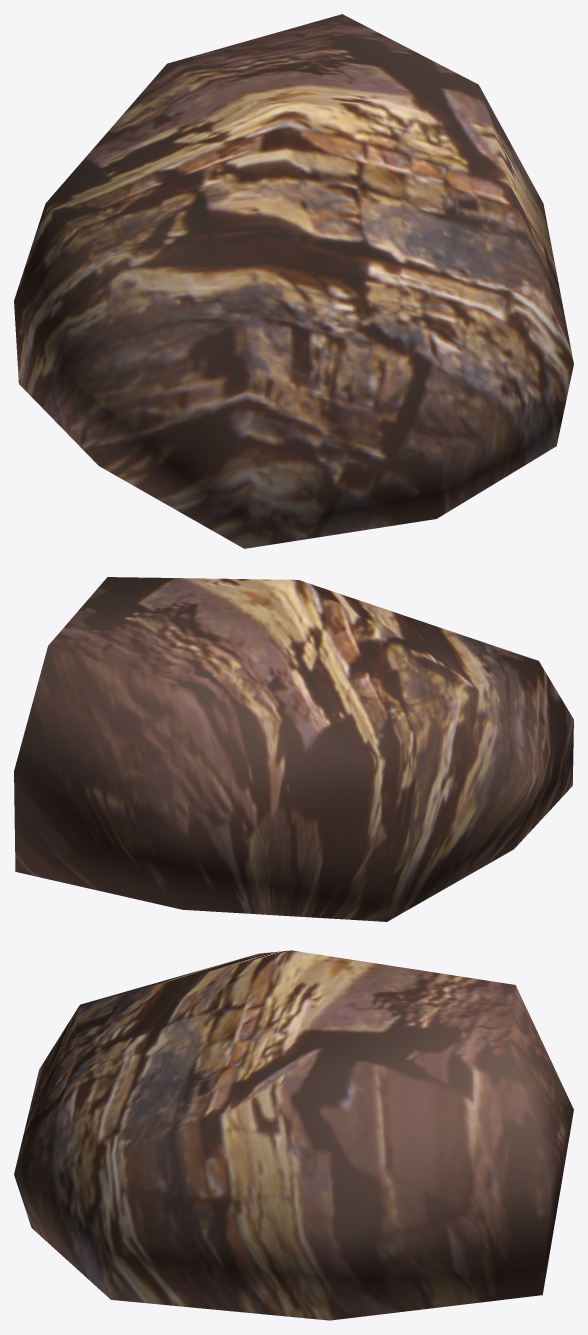
File: small_roche_2.fbx
3 renders of one model, top to bottom at view 1: azimuth 30°, elevation 25°; view 2: azimuth 150°, elevation 25°; view 3: azimuth 270°, elevation 25°, orthographic. The views are drawn at different scales.
Visible parts, largest first — view 1: cube; view 2: cube; view 3: cube.
Boxes of the visible parts, x1,y1,x2,y2 form: cube: (14,14,573,548); cube: (14,577,573,921); cube: (14,950,573,1320).
Bounding box in the file's own units: 215 × 120 × 221.
1 material, 1 textured.
